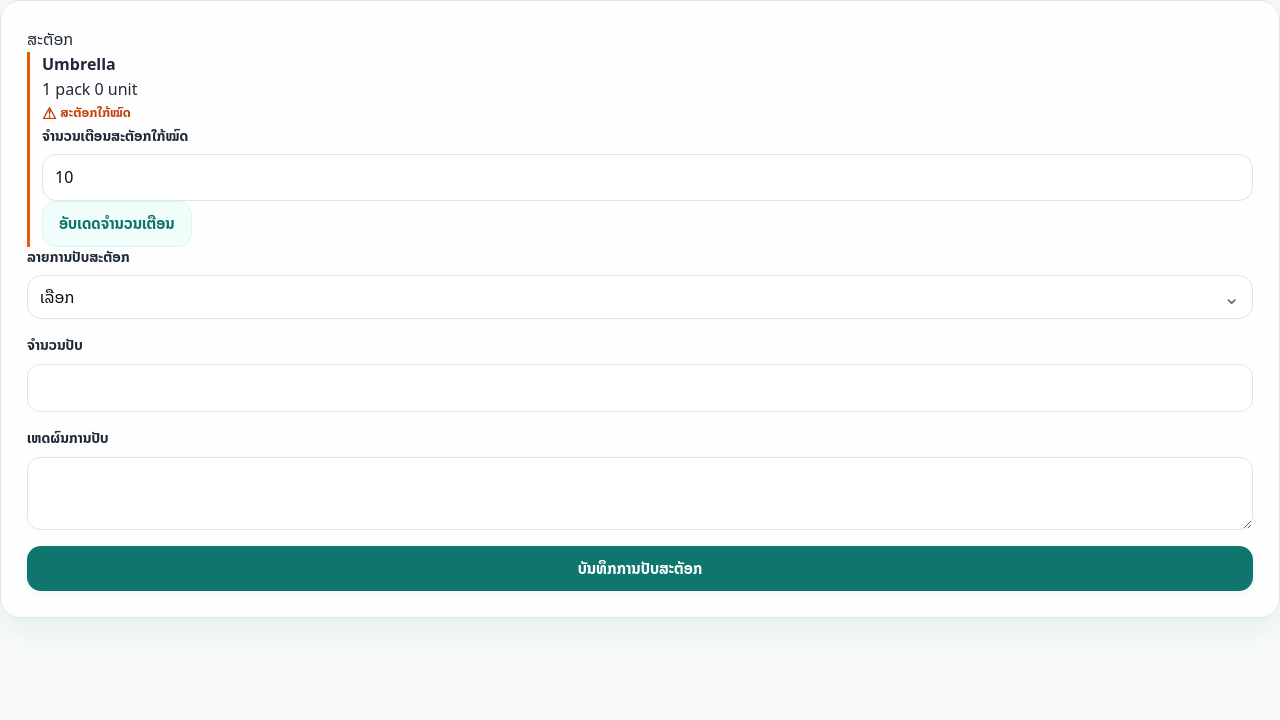
Test: GiftStockPanel › requires an adjustment reason and retains an error for a retry
Step 1. Click the dropdown named "ລາຍການປັບສະຕັອກ" → (57, 297), box [27,275,1253,319]
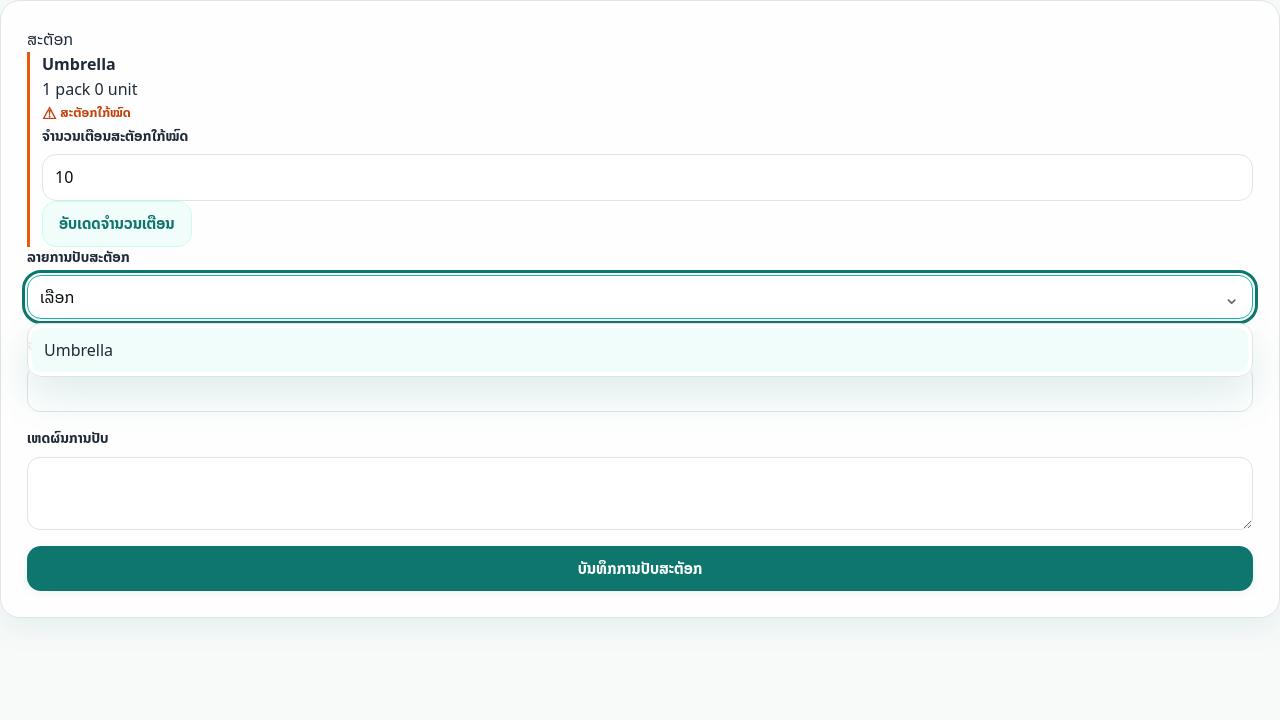
Step 2. Click the option "Umbrella" → (79, 350), box [32,328,1248,372]
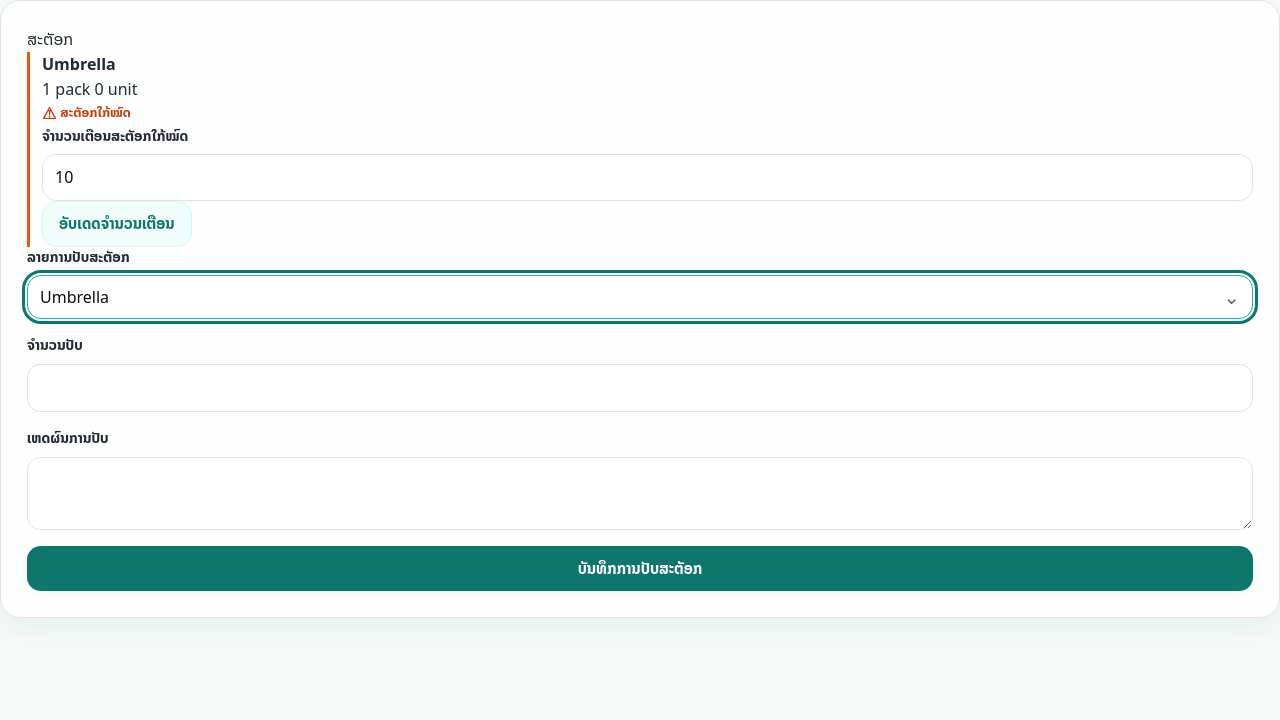
Step 3. Type "-1" into the field labelled "ຈຳນວນປັບ" → (640, 388), box [27,364,1253,412]
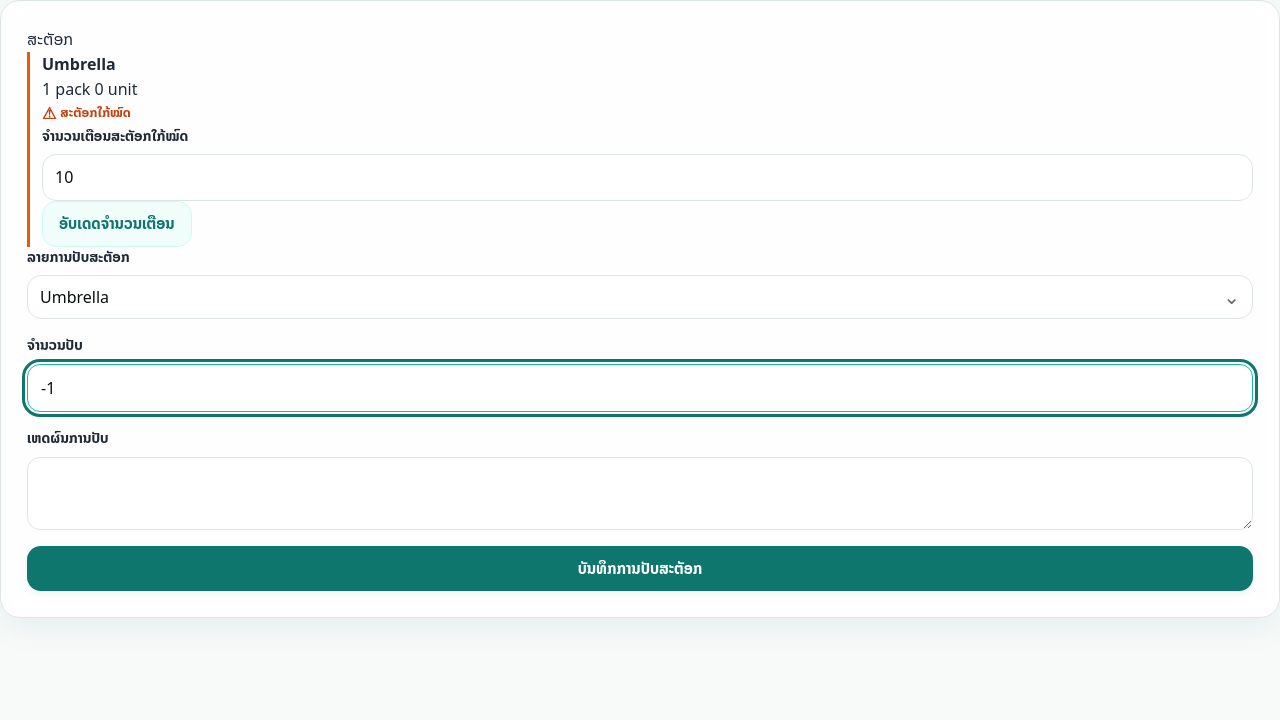
Step 4. Click the button "ບັນທຶກການປັບສະຕັອກ" → (640, 569), box [27,546,1253,592]
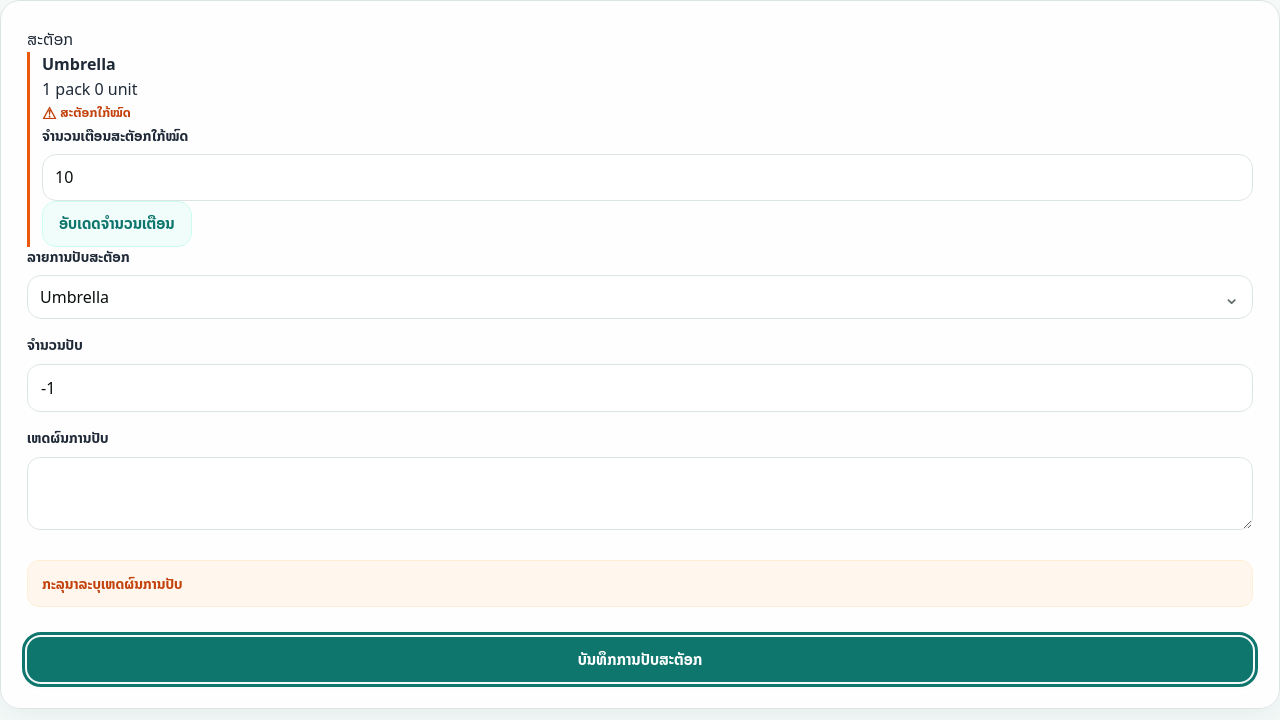
Result: the message shows "ເຫດຜົນ" at [42,572,183,595]
Step 5. Type "Count correction" into the text box labelled "ເຫດຜົນການປັບ" → (640, 493), box [27,457,1253,530]
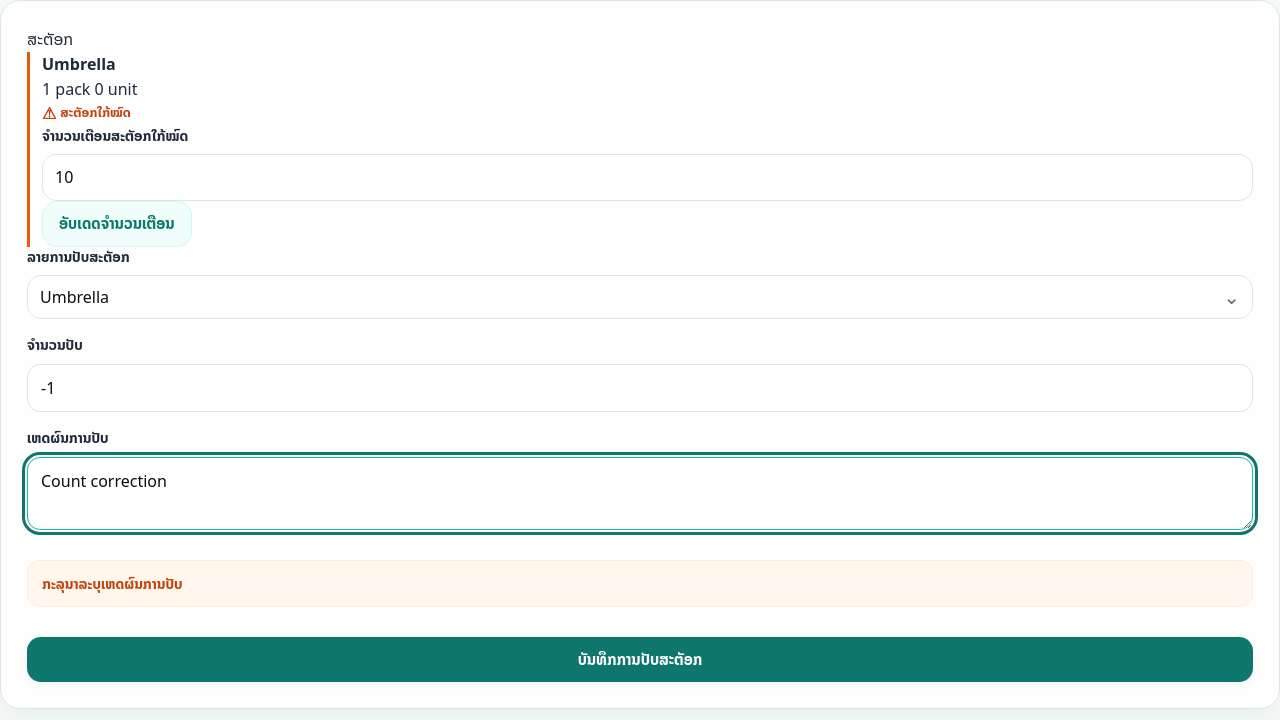
Step 6. Click the button "ບັນທຶກການປັບສະຕັອກ" → (640, 660), box [27,637,1253,682]
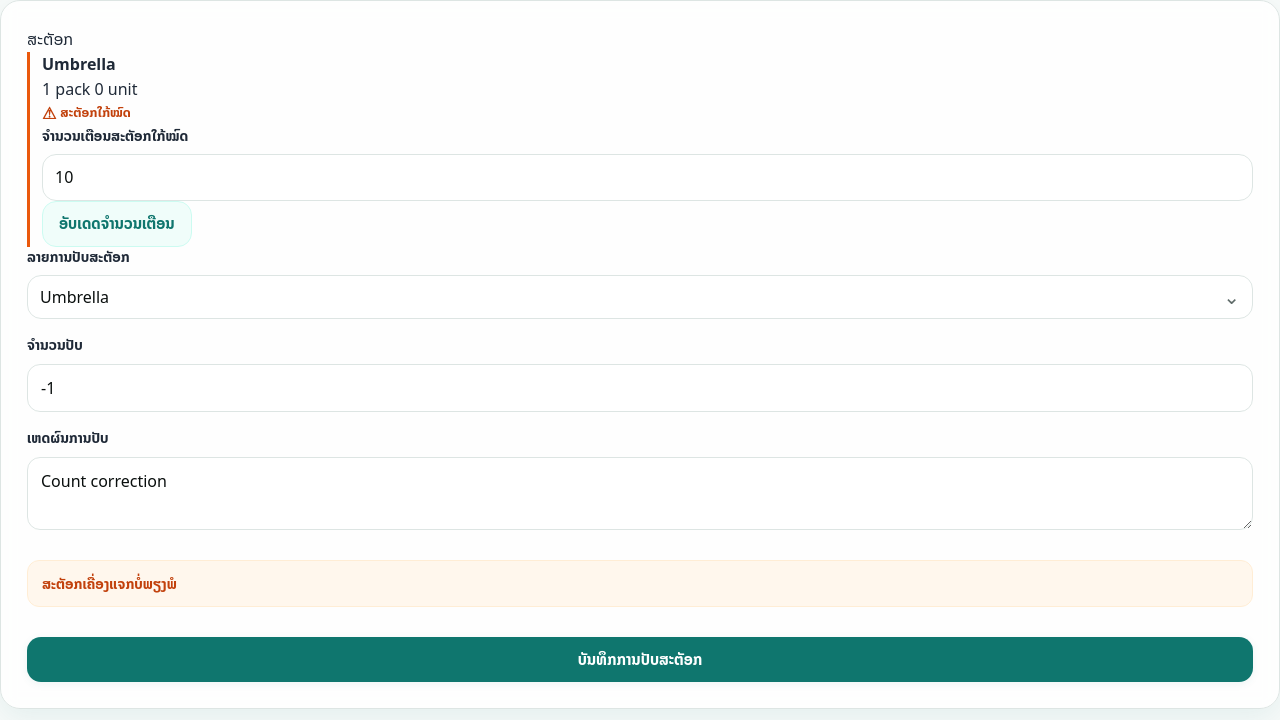
Result: the message shows "ສະຕັອກ" at [42,572,177,595]
